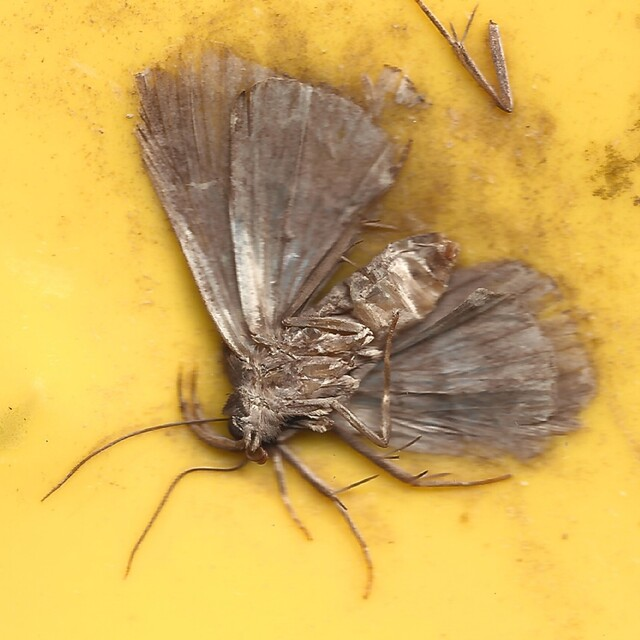Lepidoptera: (41, 41, 599, 599)
